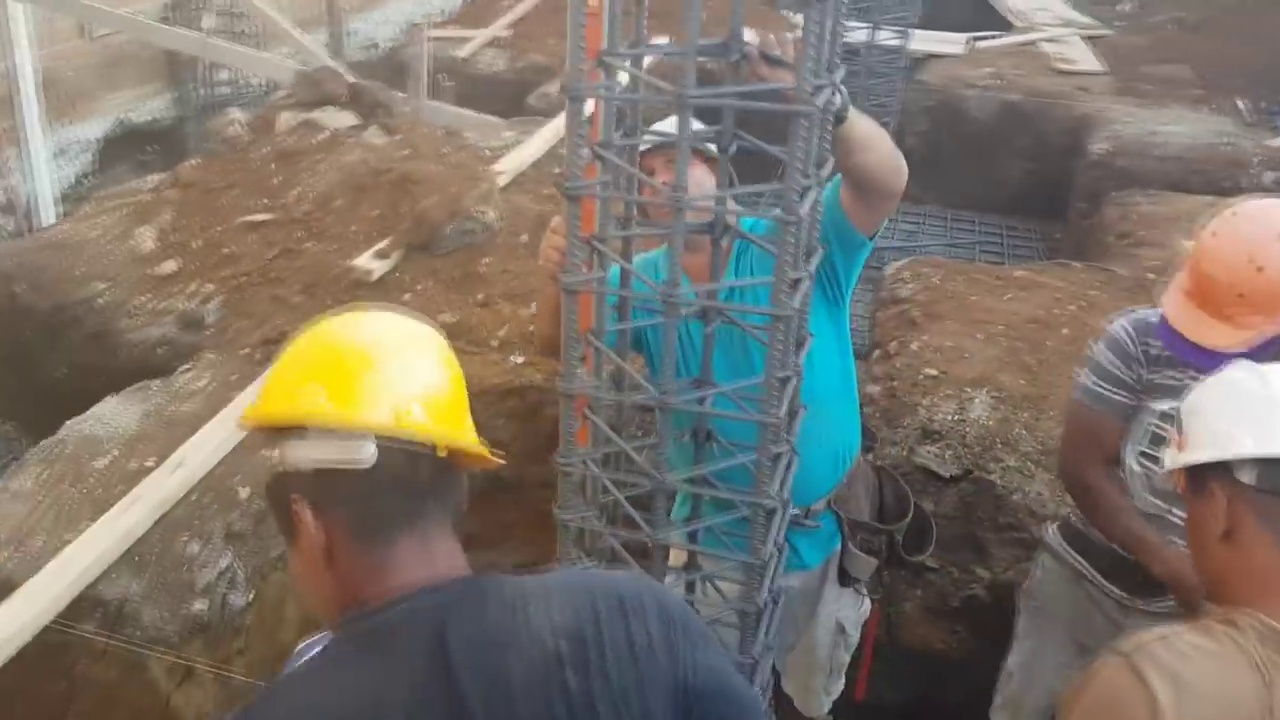helmet: (224, 314, 504, 483), (1160, 194, 1280, 353), (1158, 377, 1280, 478)
helmet-off: (626, 116, 745, 267)
helmet-on: (229, 308, 504, 641), (1151, 194, 1280, 366), (1160, 362, 1279, 544)
person: (536, 20, 909, 719), (223, 316, 776, 720), (1058, 193, 1280, 713)
